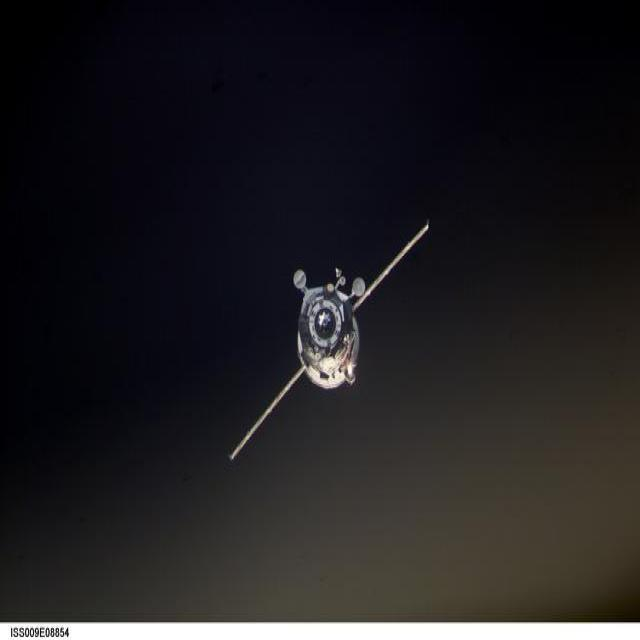medium_debris: (294, 223, 428, 389), (234, 372, 301, 457)
